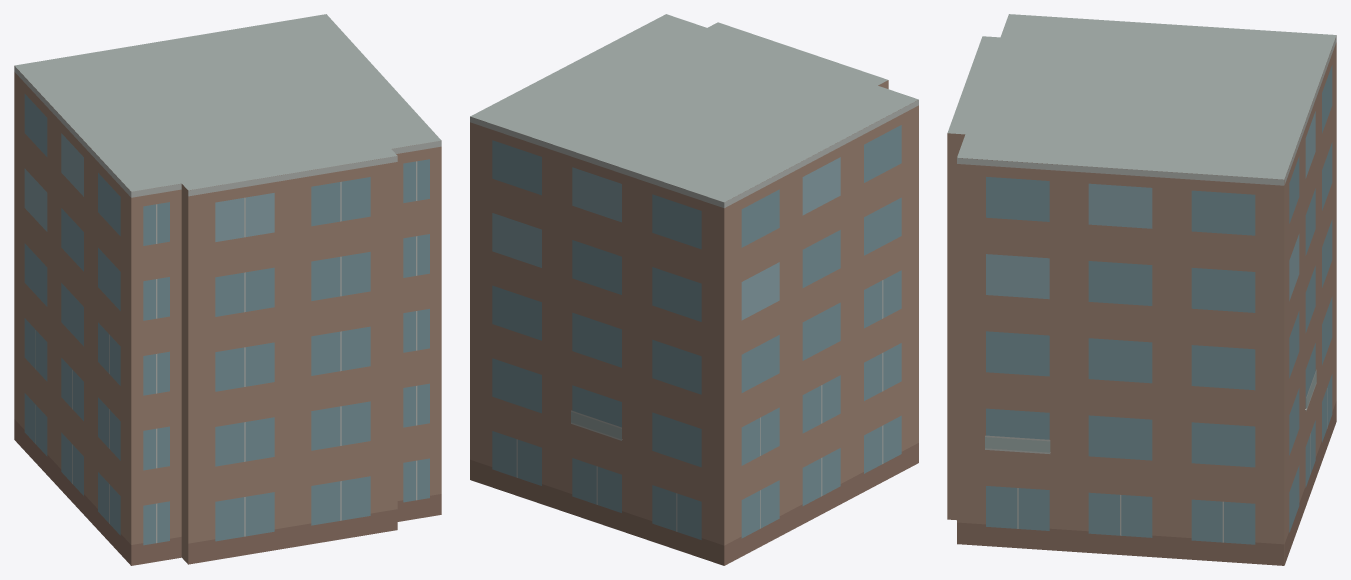
The model's file is survey-upis-32642316.glb.
3 renders of one model, left to right at view 1: azimuth 30°, elevation 25°; view 2: azimuth 150°, elevation 25°; view 3: azimuth 270°, elevation 25°, orthographic. The views are drawn at different scales.
Visible parts, largest first — view 1: survey-upis-32642316.tmp; view 2: survey-upis-32642316.tmp; view 3: survey-upis-32642316.tmp.
Part boxes in pixels (x1=…): survey-upis-32642316.tmp: x1=14, y1=14, x2=441, y2=565; survey-upis-32642316.tmp: x1=470, y1=14, x2=918, y2=565; survey-upis-32642316.tmp: x1=947, y1=14, x2=1336, y2=565.
Size of the model in its own units: 14.03 by 15.25 by 13.94.
